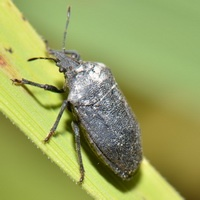insect: (28, 7, 141, 179)
